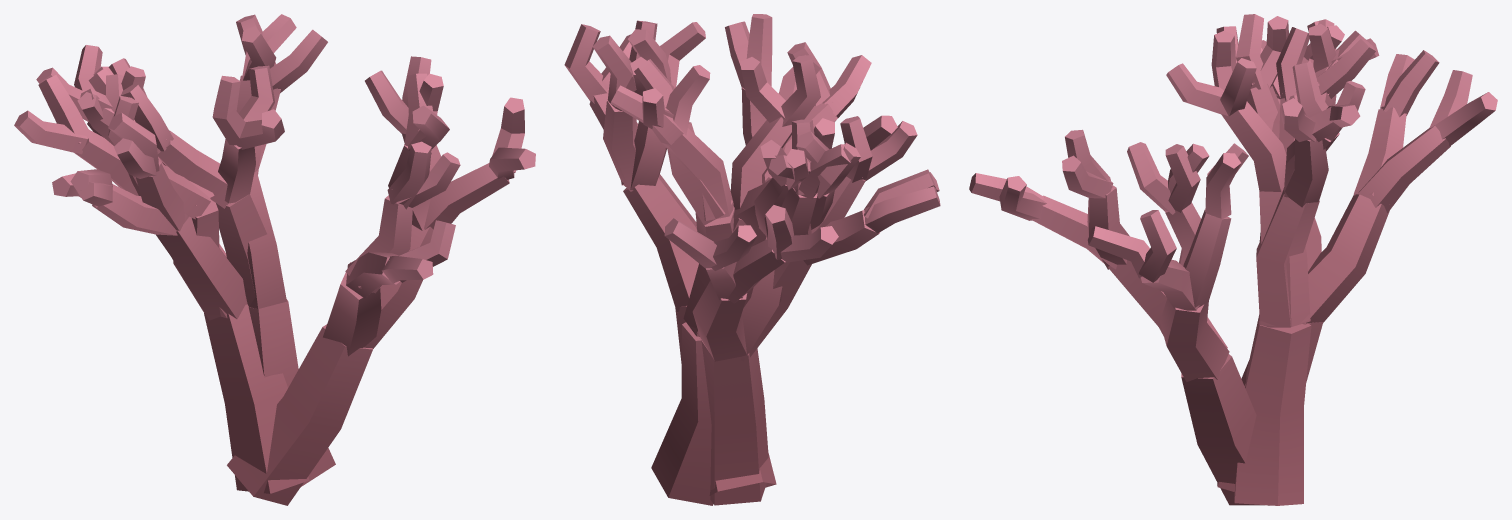
Rendered from coral_branch.glb.
3 views of the same model, side by side, from view 1: azimuth 30°, elevation 25°; view 2: azimuth 150°, elevation 25°; view 3: azimuth 270°, elevation 25° (orthographic). The views are drawn at different scales.
Parts seen in each view (by area): view 1: coral_branch; view 2: coral_branch; view 3: coral_branch.
Part boxes in pixels (x1,y1,x2,y2): coral_branch: (14,14,535,505); coral_branch: (564,14,940,505); coral_branch: (969,14,1497,505).
Bounding box in the file's own units: 0.8716 × 0.893 × 0.96.
